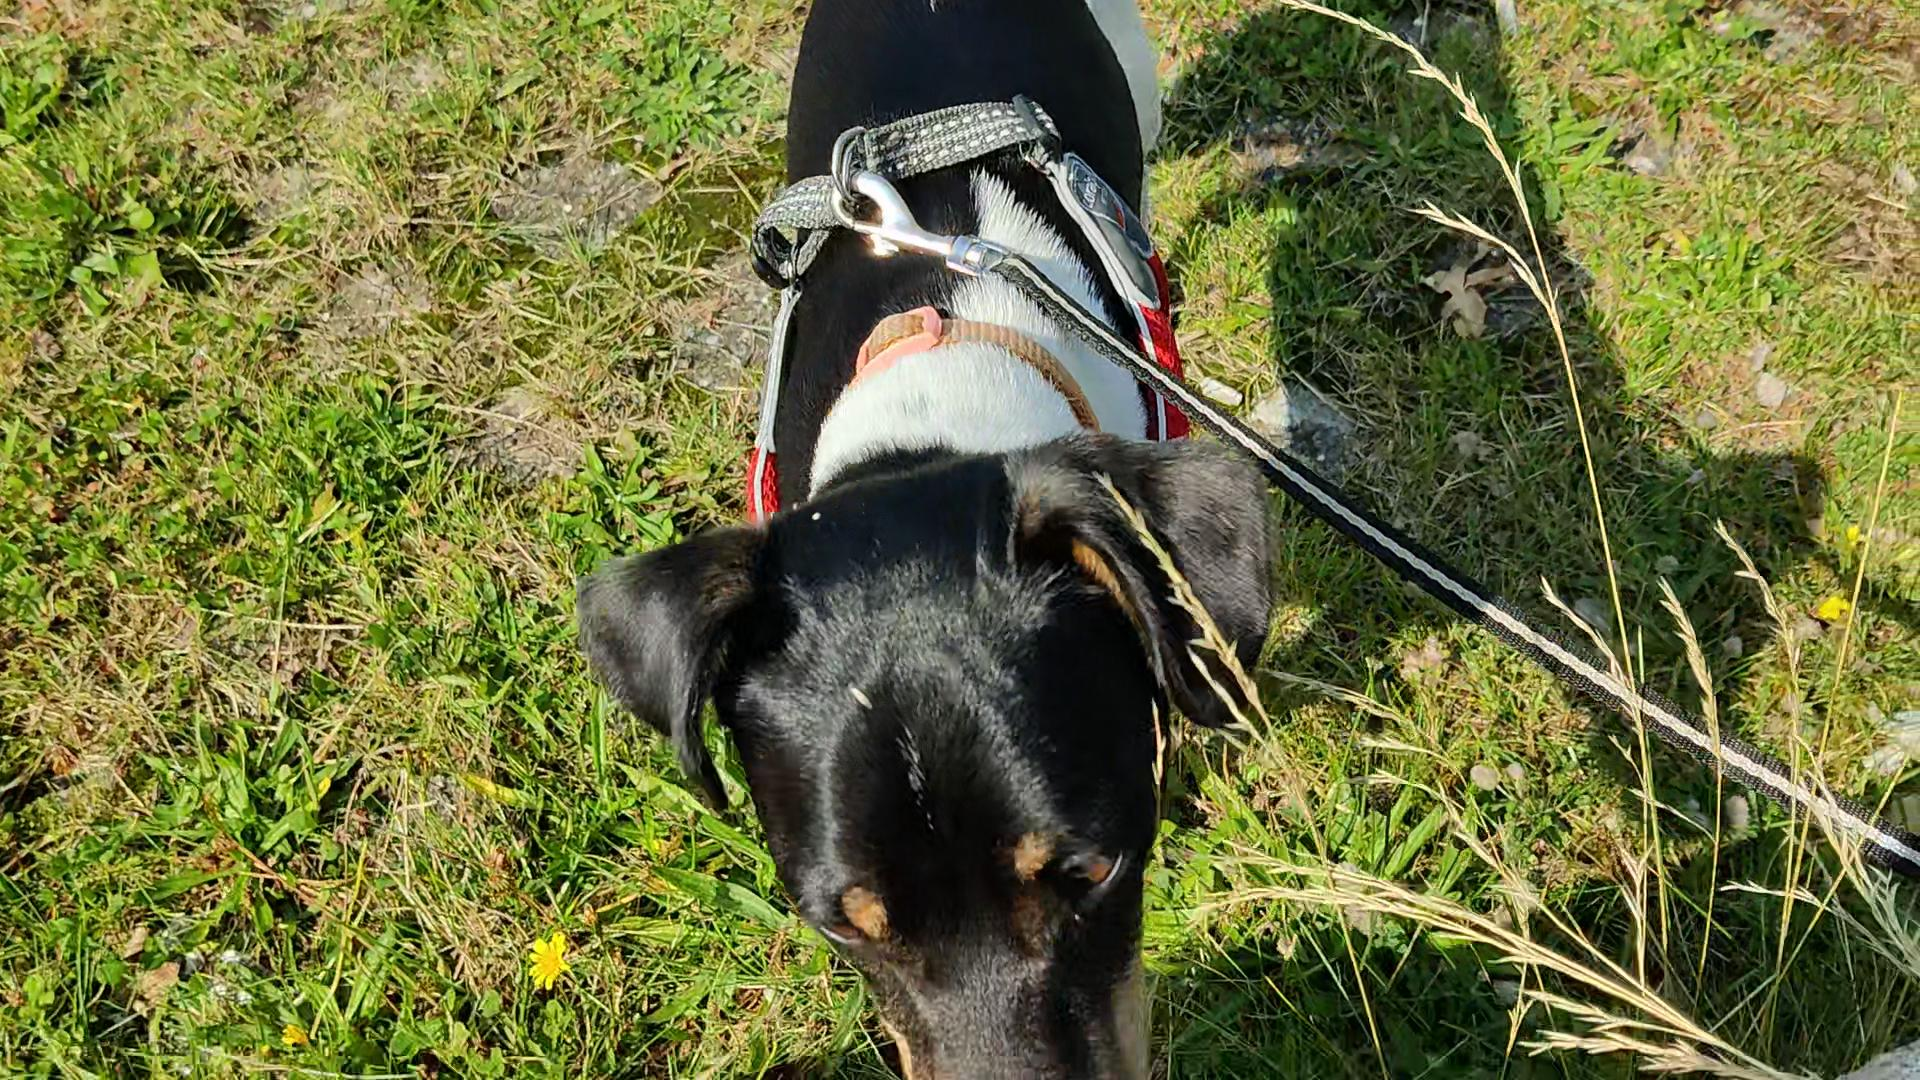Dog: (547, 0, 1305, 1080)
